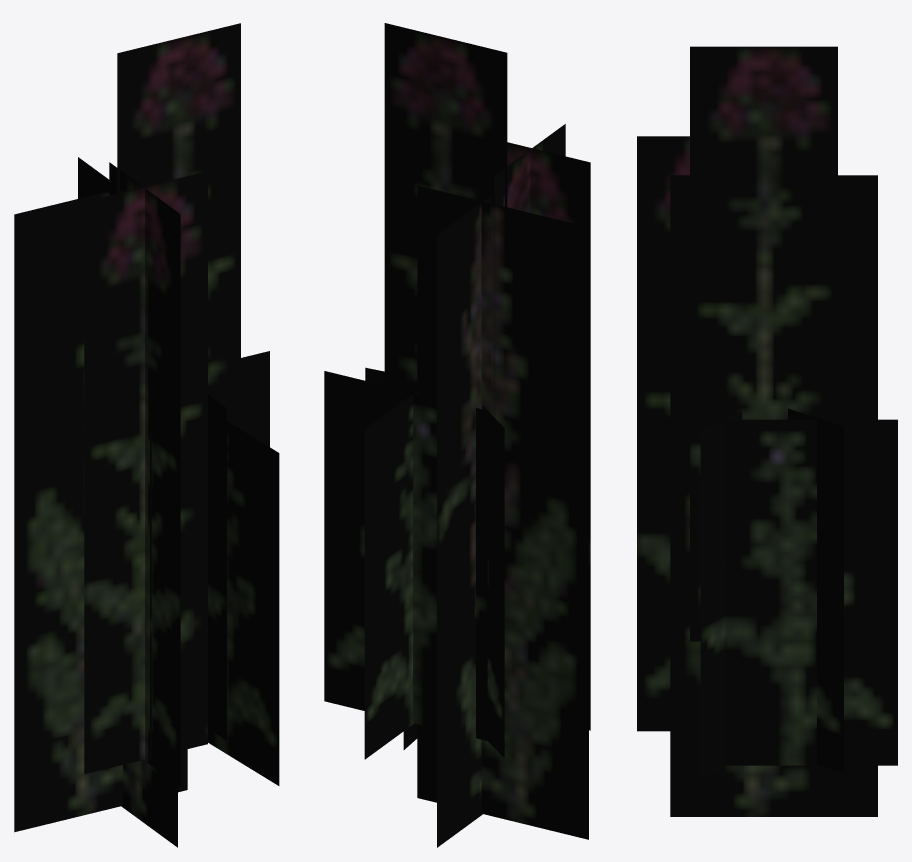
The model's file is SM_EC_Plant_Bush_07.fbx.
3 renders of one model, left to right at view 1: azimuth 30°, elevation 25°; view 2: azimuth 150°, elevation 25°; view 3: azimuth 270°, elevation 25°, orthographic. The views are drawn at different scales.
Parts seen in each view (by area): view 1: SM_EC_Plant_Bush_07; view 2: SM_EC_Plant_Bush_07; view 3: SM_EC_Plant_Bush_07.
Boxes of the visible parts, x1=… form: SM_EC_Plant_Bush_07: x1=14, y1=23, x2=279, y2=847; SM_EC_Plant_Bush_07: x1=324, y1=23, x2=590, y2=847; SM_EC_Plant_Bush_07: x1=637, y1=46, x2=897, y2=816.
Bounding box in the file's own units: 0.5041 × 0.4486 × 1.41.
